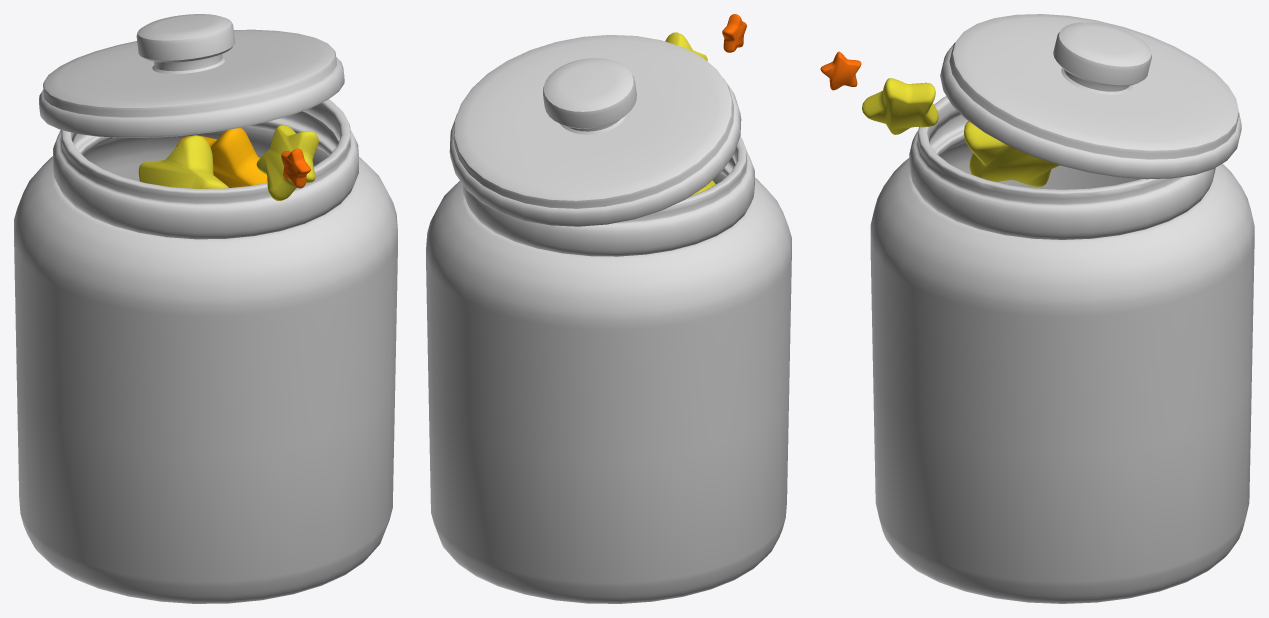
File: star_jar.glb
The picture shows the model from 3 angles, left to right: view 1: azimuth 30°, elevation 25°; view 2: azimuth 150°, elevation 25°; view 3: azimuth 270°, elevation 25°; orthographic projection. The views are drawn at different scales.
Visible parts, largest first — view 1: jar, lid, star hue3 4, star hue4 3, star hue2 1.001, star hue2 1.002; view 2: jar, lid, star hue2 1.002; view 3: jar, lid, star hue3 4, star hue2 1.001, star hue2 1.002.
Boxes of the visible parts, x1=… form: jar: x1=14, y1=99, x2=397, y2=603; lid: x1=39, y1=14, x2=344, y2=137; star hue3 4: x1=138, y1=135, x2=228, y2=188; star hue4 3: x1=176, y1=127, x2=267, y2=187; star hue2 1.001: x1=256, y1=124, x2=318, y2=201; star hue2 1.002: x1=281, y1=148, x2=310, y2=188; jar: x1=426, y1=137, x2=791, y2=603; lid: x1=449, y1=35, x2=741, y2=226; star hue2 1.002: x1=722, y1=14, x2=746, y2=52; jar: x1=870, y1=96, x2=1254, y2=603; lid: x1=940, y1=14, x2=1241, y2=179; star hue3 4: x1=963, y1=121, x2=1059, y2=186; star hue2 1.001: x1=862, y1=78, x2=938, y2=134; star hue2 1.002: x1=820, y1=51, x2=861, y2=90.
Bounding box in the file's own units: 4.17 × 5.99 × 4.72.
